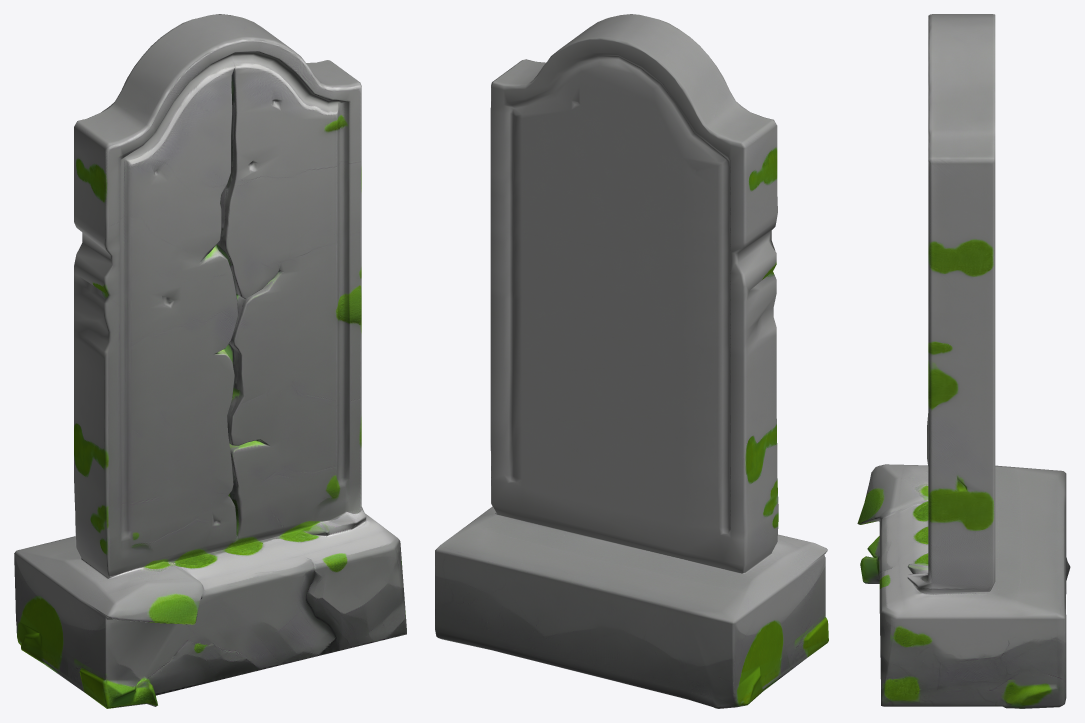
The model's file is grave_headstone_cracked.glb.
3 renders of one model, left to right at view 1: azimuth 30°, elevation 25°; view 2: azimuth 150°, elevation 25°; view 3: azimuth 270°, elevation 25°, orthographic.
Bounding box in the file's own units: 1.01 × 1.91 × 0.5988.
1 material, 1 textured.
